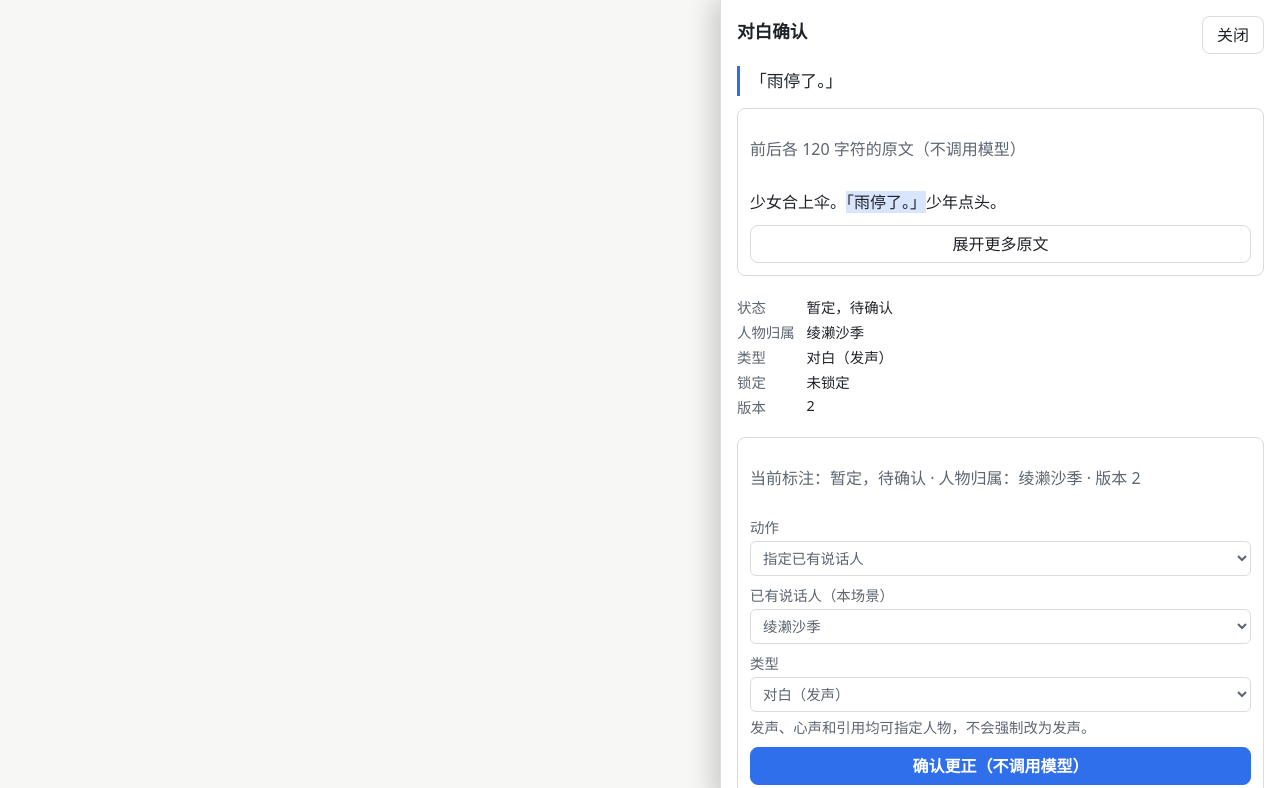
QuoteDetailDrawer › 提交更正时带上期望版本，并报告下游需要重新确认
expect the text with test id "drawer-quote" is shown: met, box [737, 66, 1264, 96]
Step 1. Click the button with test id "correction-submit" → x=1000, y=766, box [750, 747, 1251, 785]
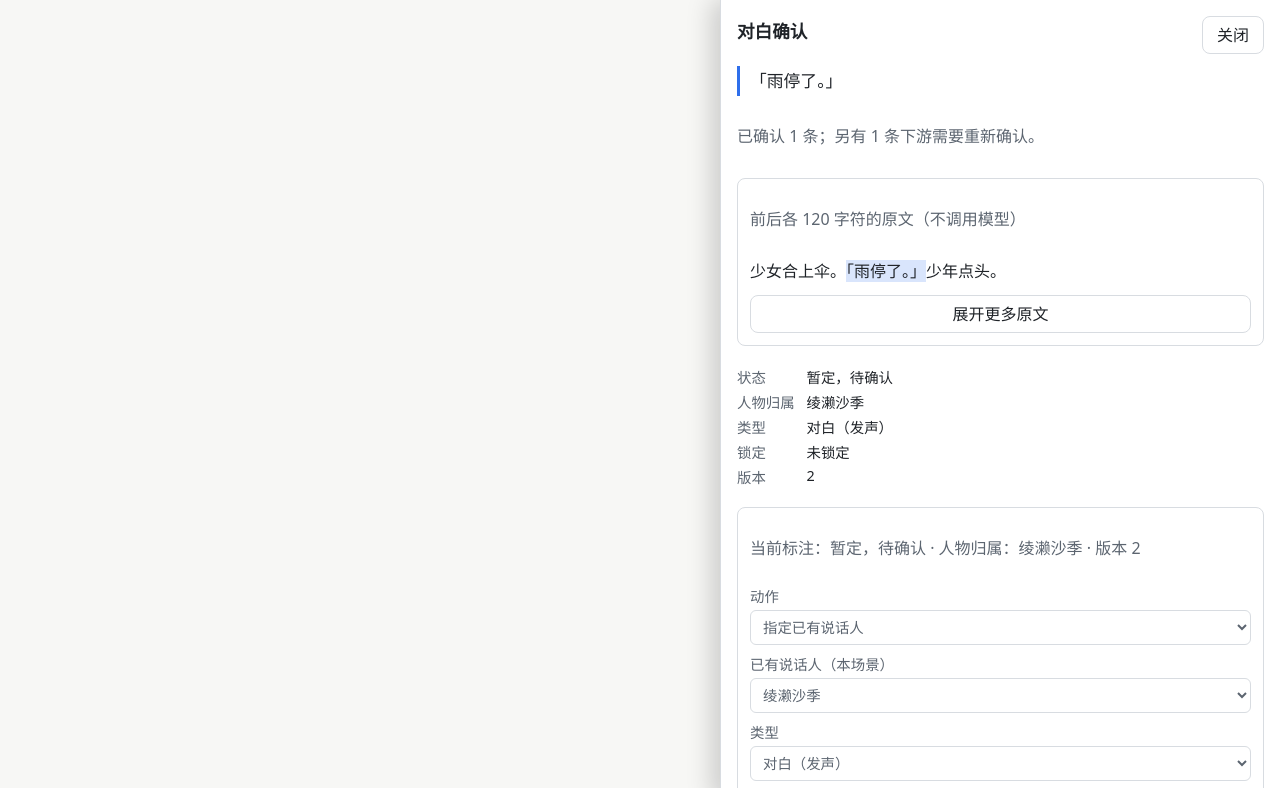
expect the text with test id "drawer-notice" shows "1 条下游需要重新确认": met, box [737, 125, 1044, 147]
